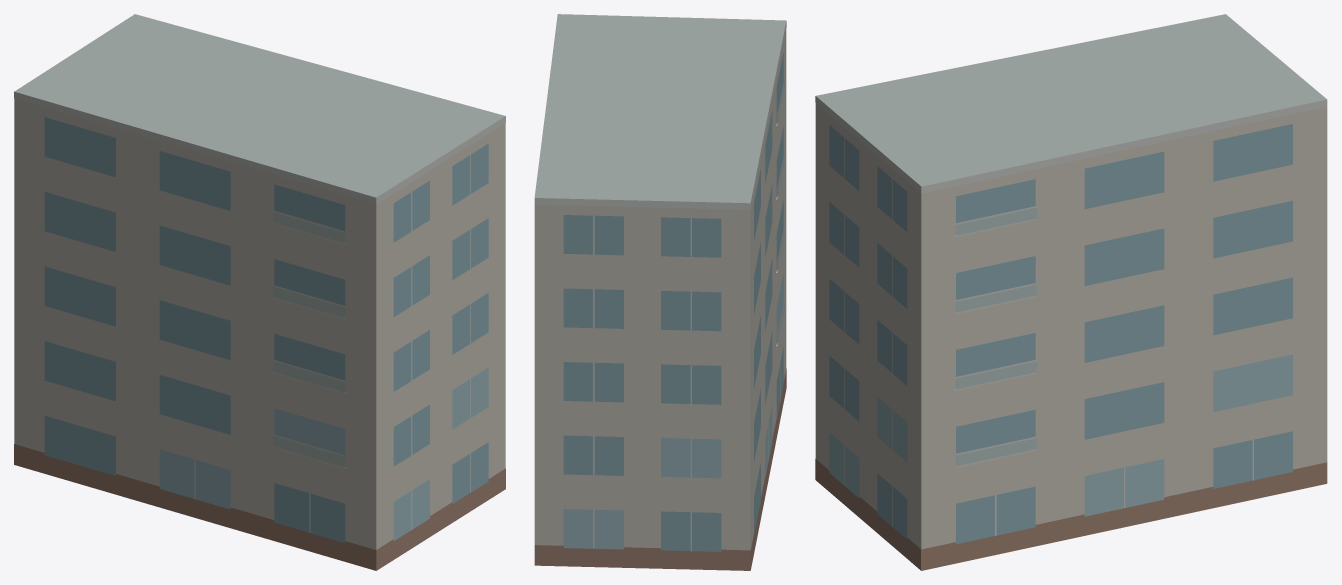
File: survey-upis-32841199.glb
3 renders of one model, left to right at view 1: azimuth 30°, elevation 25°; view 2: azimuth 150°, elevation 25°; view 3: azimuth 270°, elevation 25°, orthographic. The views are drawn at different scales.
Parts seen in each view (by area): view 1: survey-upis-32841199.tmp; view 2: survey-upis-32841199.tmp; view 3: survey-upis-32841199.tmp.
Boxes of the visible parts, x1,y1,x2,y2 form: survey-upis-32841199.tmp: [14, 14, 505, 570]; survey-upis-32841199.tmp: [534, 14, 786, 570]; survey-upis-32841199.tmp: [815, 14, 1327, 570].
Bounding box in the file's own units: 12.92 × 13.4 × 16.18.
